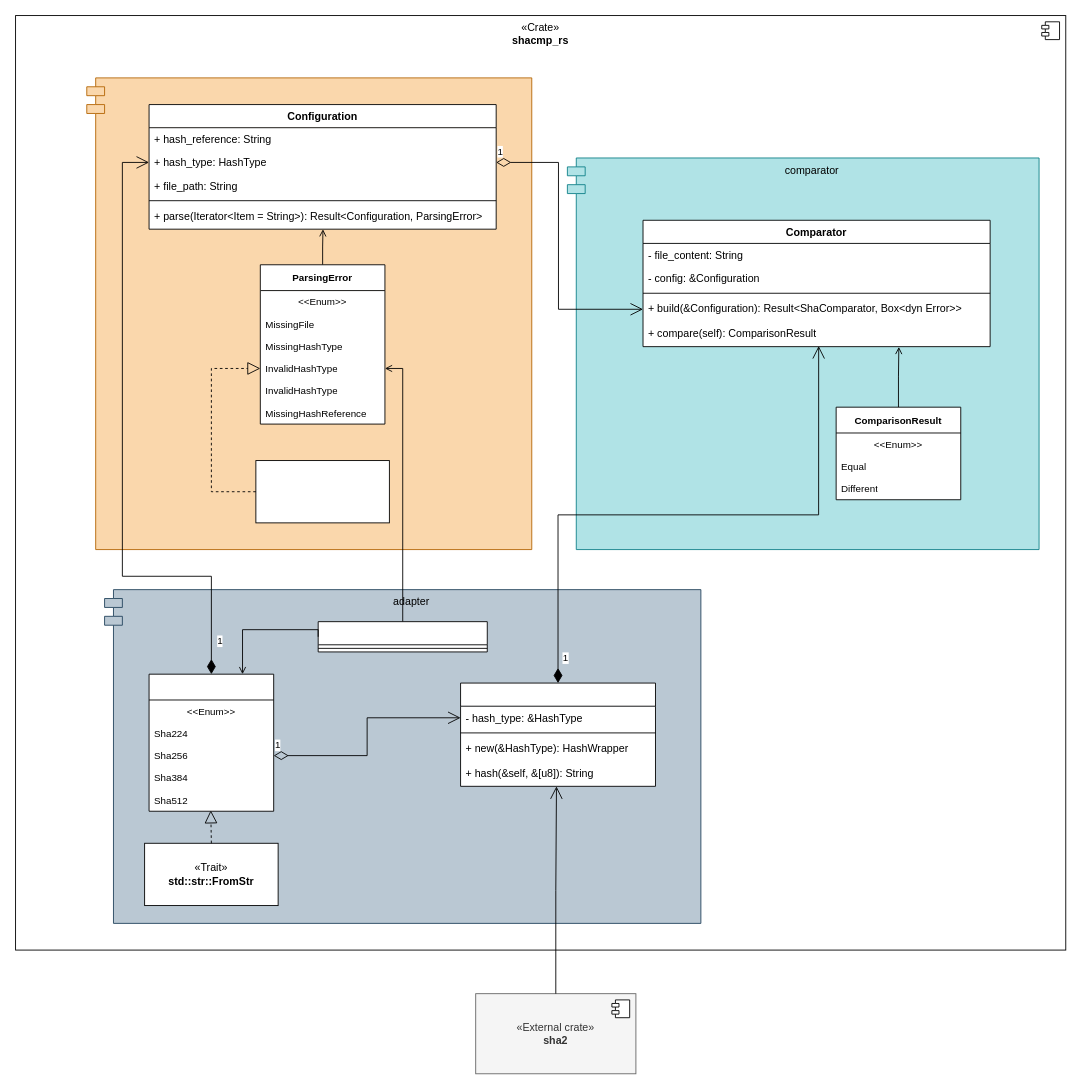
Image size: 1081x1089. Some labels were removed from this diagram. Here are the shapes that lost their labels. From the top down, the box of each, then its label:
(86, 77, 532, 550): parser
(255, 460, 389, 523): «Trait» From<HashTypeError>
(317, 621, 487, 652): HashTypeError
(148, 673, 274, 811): HashType
(460, 682, 655, 786): HasherWrapper
